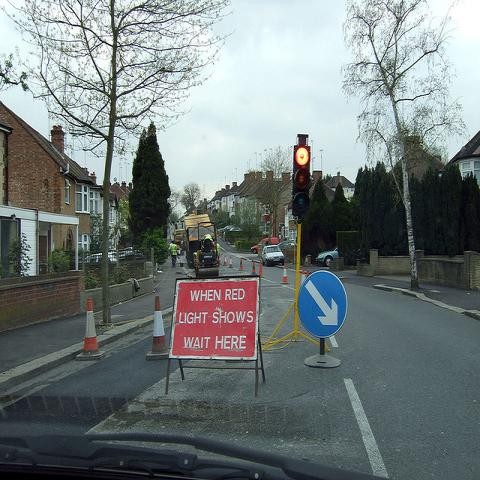car: (315, 244, 339, 267), (261, 244, 285, 266), (251, 237, 278, 254), (224, 226, 243, 236), (278, 241, 298, 248)
truck: (184, 207, 220, 277)
